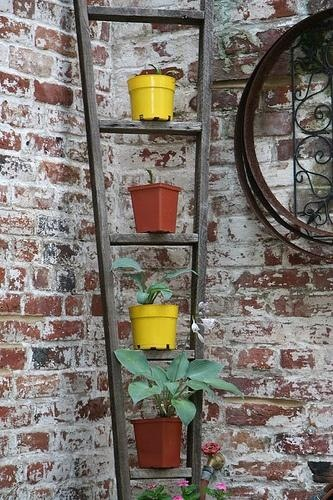pottedplant: (114, 348, 247, 470), (129, 169, 183, 235), (129, 283, 180, 352), (127, 63, 185, 121)
